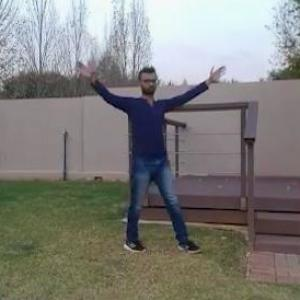takeoff: (38, 60, 204, 261)
